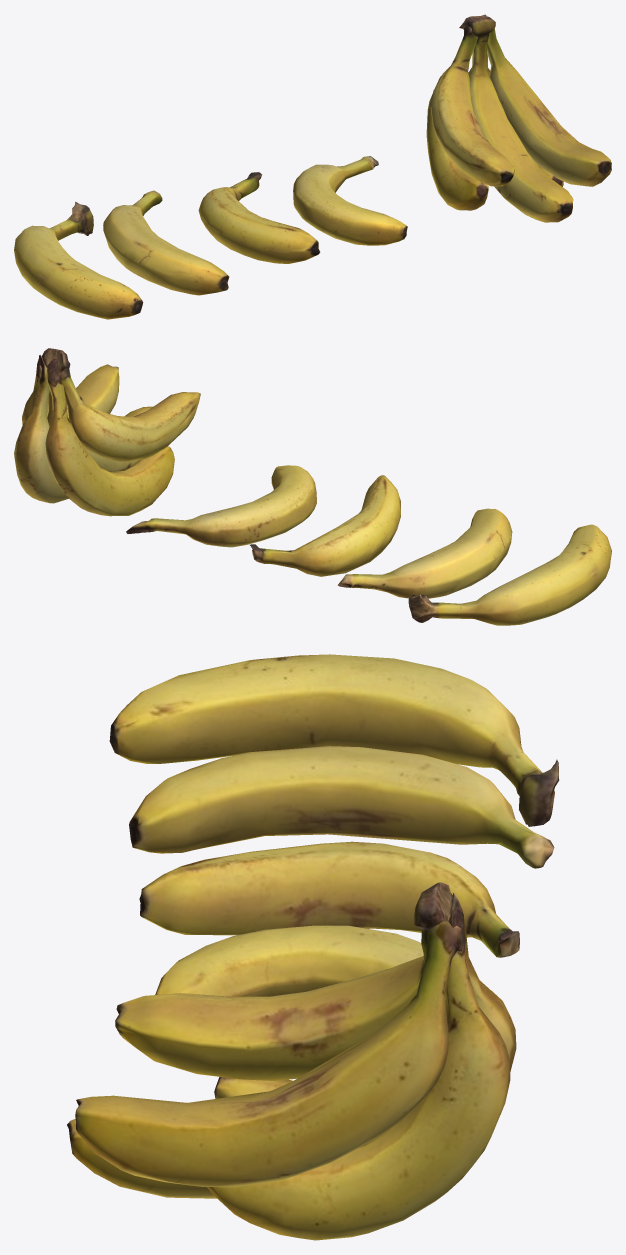
The model's file is bananas.glb.
3 renders of one model, top to bottom at view 1: azimuth 30°, elevation 25°; view 2: azimuth 150°, elevation 25°; view 3: azimuth 270°, elevation 25°, orthographic. The views are drawn at different scales.
Visible parts, largest first — view 1: Material.008; view 2: Material.008; view 3: Material.008.
Part boxes in pixels (x1,y1,x2,y2): Material.008: (14, 14, 611, 319); Material.008: (14, 348, 611, 625); Material.008: (67, 654, 559, 1240).
Bounding box in the file's own units: 0.5996 × 0.1786 × 0.2438.
1 material, 1 textured.
